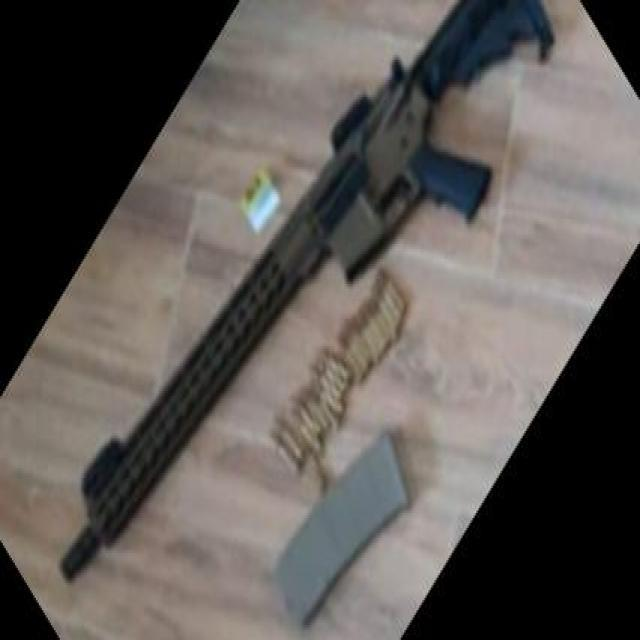weapon: (58, 0, 555, 581)
